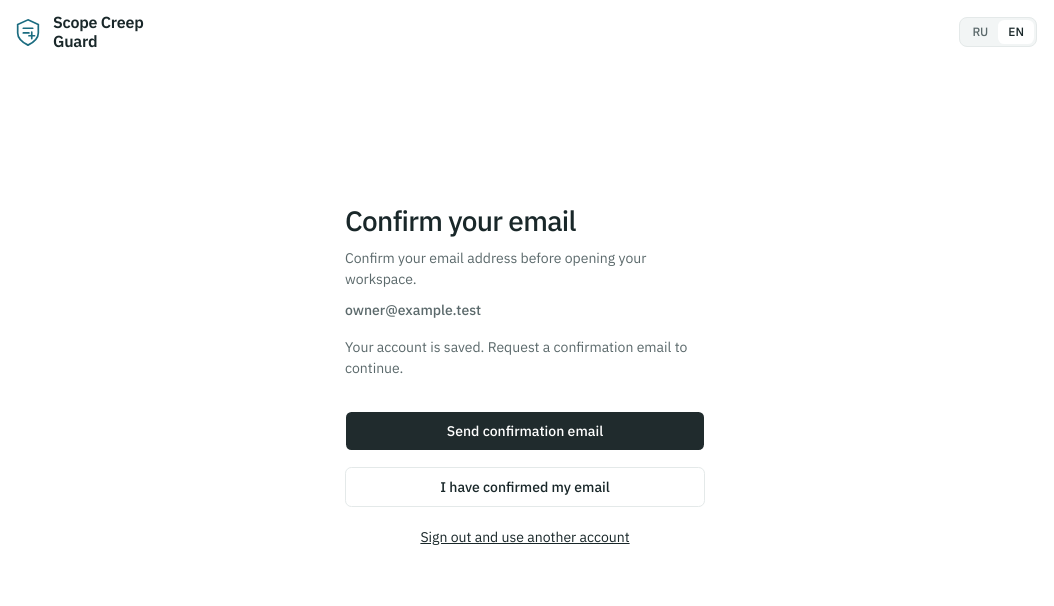
Test: uses server Retry-After on resend limits and sends explicit locale only
Click the button "Send confirmation email" at (525, 431), box top-left (345, 411), bottom-right (705, 451)
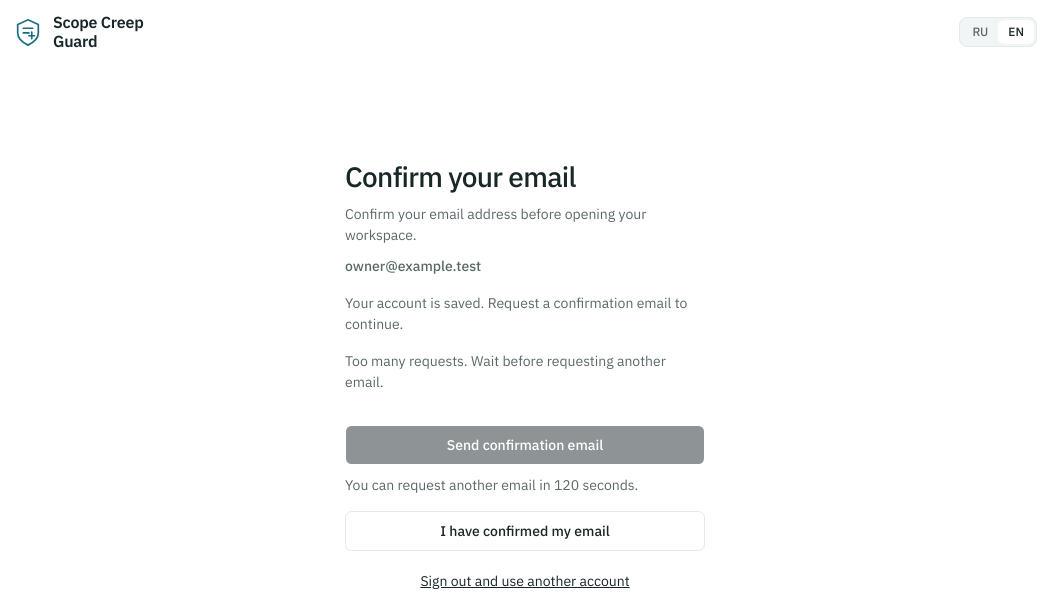
Now the message "Too many requests. Wait before requesting another email." is shown, box top-left (345, 351), bottom-right (705, 393)
Now the text "You can request another email in 120 seconds." is shown, box top-left (345, 476), bottom-right (638, 494)
